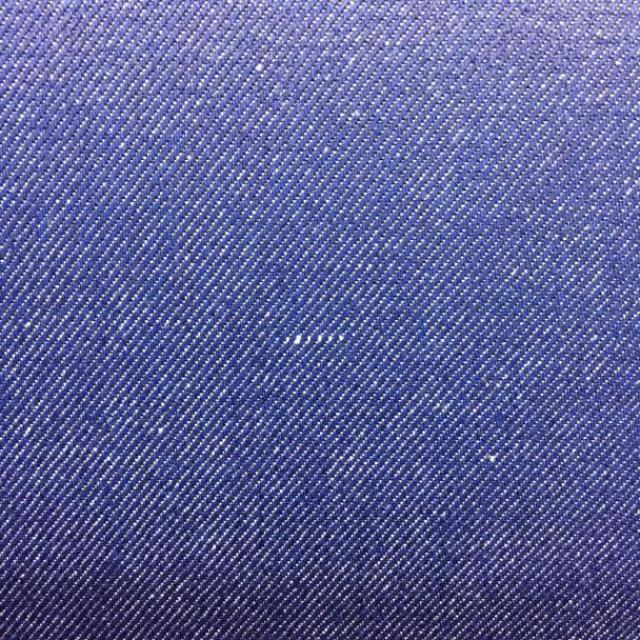Knot: (283, 333, 346, 348)
